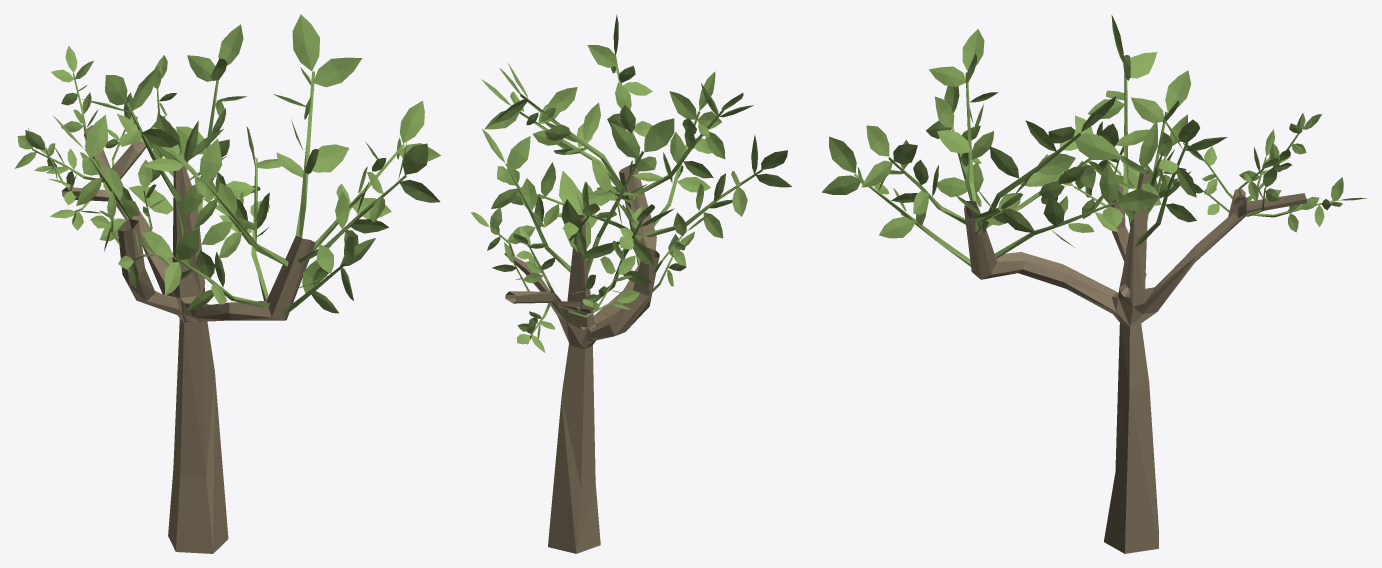
The model's file is Apple_3_1.fbx.
The picture shows the model from 3 angles, left to right: view 1: azimuth 30°, elevation 25°; view 2: azimuth 150°, elevation 25°; view 3: azimuth 270°, elevation 25°; orthographic projection. The views are drawn at different scales.
Parts seen in each view (by area): view 1: Apple_3_1; view 2: Apple_3_1; view 3: Apple_3_1.
Part boxes in pixels (x1,y1,x2,y2): Apple_3_1: (15,14,440,553); Apple_3_1: (471,14,791,553); Apple_3_1: (822,15,1366,553).
Bounding box in the file's own units: 145 × 225 × 227.
